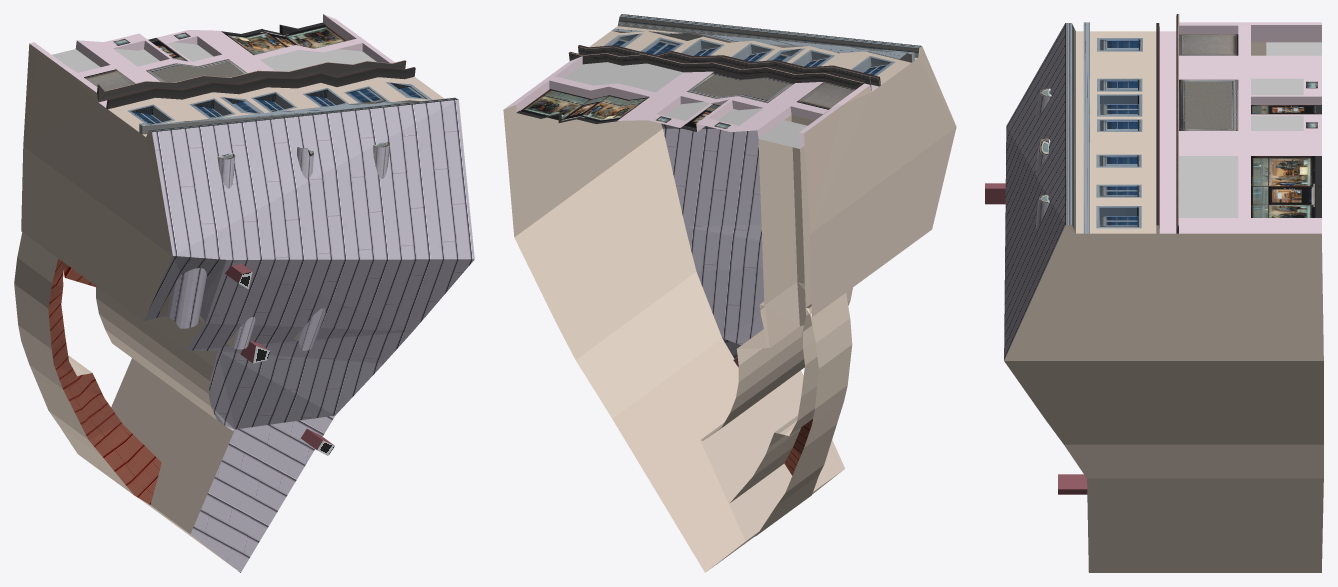
File: Viru10-origo.obj
3 renders of one model, left to right at view 1: azimuth 30°, elevation 25°; view 2: azimuth 150°, elevation 25°; view 3: azimuth 270°, elevation 25°, orthographic. The views are drawn at different scales.
Parts seen in each view (by area): view 1: polySurface3; view 2: polySurface3; view 3: polySurface3.
Boxes of the visible parts, x1,y1,x2,y2 form: polySurface3: (14,14,474,572); polySurface3: (503,14,956,572); polySurface3: (985,14,1323,572).
Size of the model in its own units: 20 by 28.5 by 17.24.
